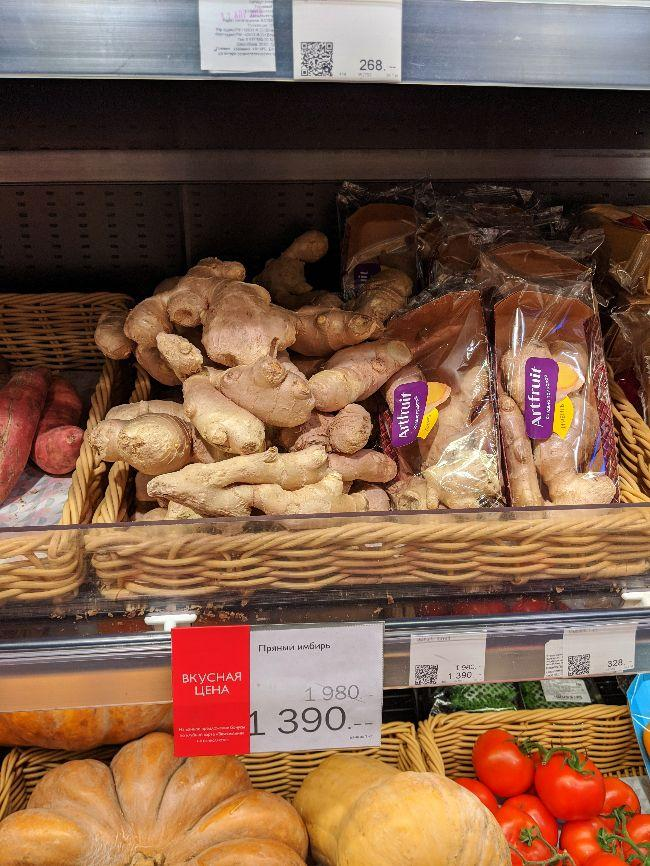ginger: (83, 205, 426, 566)
potato: (473, 701, 650, 866)
pumpkin: (0, 670, 480, 866)
